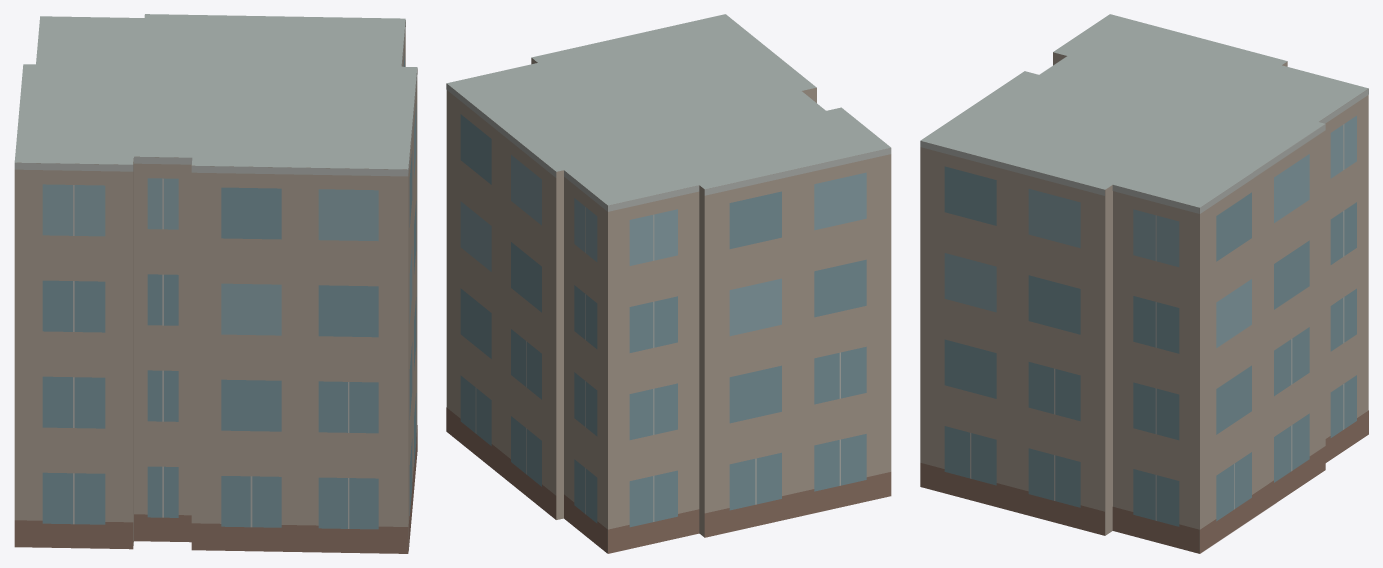
File: survey-upis-33025607.glb
The picture shows the model from 3 angles, left to right: view 1: azimuth 30°, elevation 25°; view 2: azimuth 150°, elevation 25°; view 3: azimuth 270°, elevation 25°; orthographic projection. The views are drawn at different scales.
Visible parts, largest first — view 1: survey-upis-33025607.tmp; view 2: survey-upis-33025607.tmp; view 3: survey-upis-33025607.tmp.
Part boxes in pixels (bbox=[...]): survey-upis-33025607.tmp: bbox=[14, 14, 417, 553]; survey-upis-33025607.tmp: bbox=[446, 14, 891, 553]; survey-upis-33025607.tmp: bbox=[920, 14, 1368, 553].
Size of the model in its own units: 16.1 by 13.4 by 15.75.
